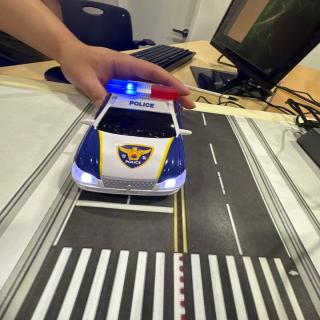Police_car: (72, 79, 191, 195)
